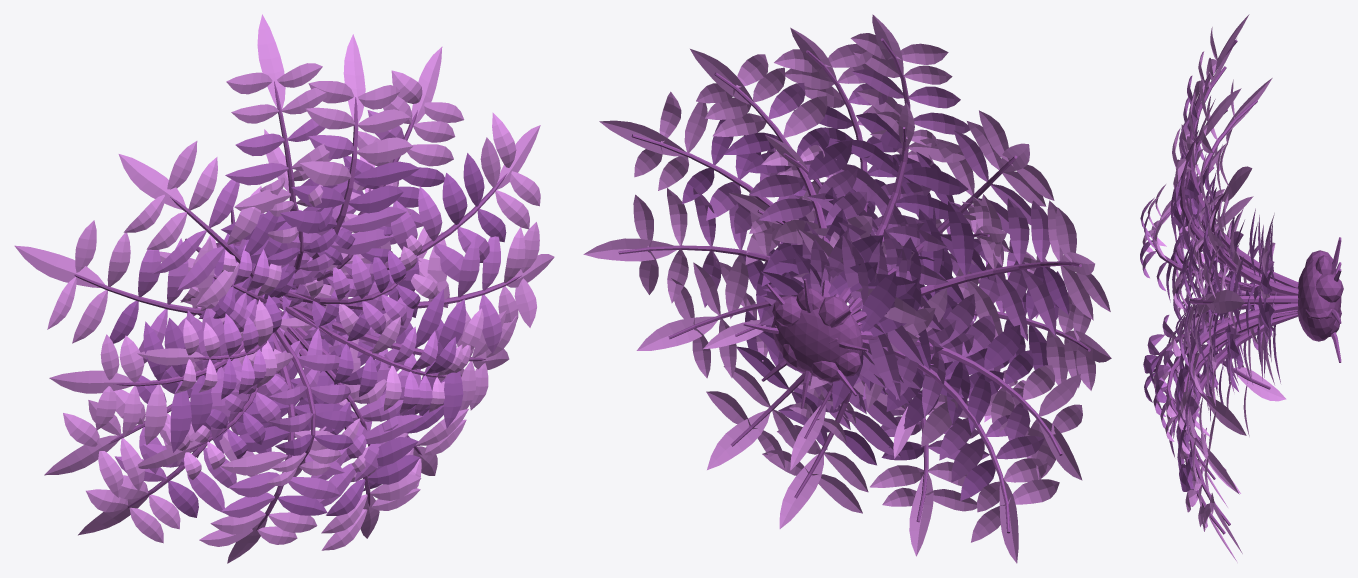
File: purple_fern.glb
3 views of the same model, side by side, from view 1: azimuth 30°, elevation 25°; view 2: azimuth 150°, elevation 25°; view 3: azimuth 270°, elevation 25° (orthographic). The views are drawn at different scales.
Visible parts, largest first — view 1: leaf_light, leaf_mid, leaf_dark, stem; view 2: leaf_light, leaf_mid, leaf_dark, stem, core; view 3: leaf_light, stem, leaf_dark, leaf_mid, core.
Boxes of the visible parts, x1,y1,x2,y2 form: leaf_light: (14,14,554,563); leaf_mid: (114,110,502,517); leaf_dark: (109,153,506,517); stem: (74,81,521,530); leaf_light: (583,14,1111,563); leaf_mid: (693,69,1056,482); leaf_dark: (682,106,1069,500); stem: (618,38,1090,533); core: (771,288,862,382); leaf_light: (1142,14,1286,562); stem: (1152,39,1341,534); leaf_dark: (1140,148,1280,491); leaf_mid: (1140,75,1276,464); core: (1297,250,1343,341).
Size of the model in its own units: 7.45 by 7.36 by 2.69.
